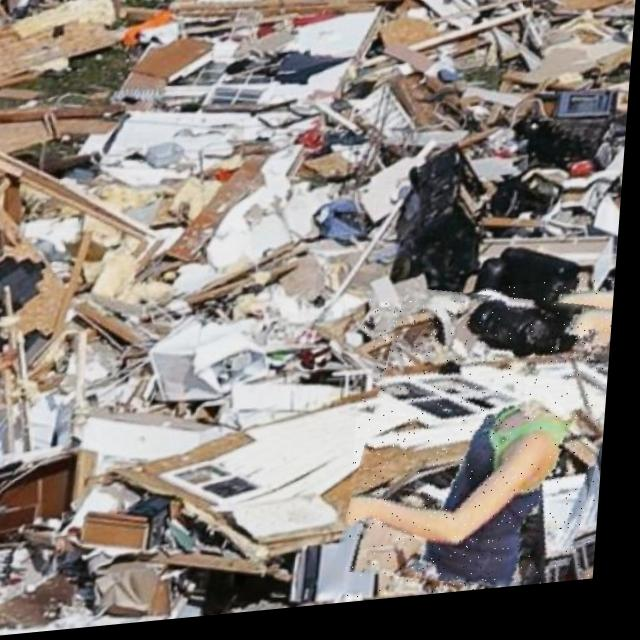Person in Rubble: (353, 289, 620, 610)
